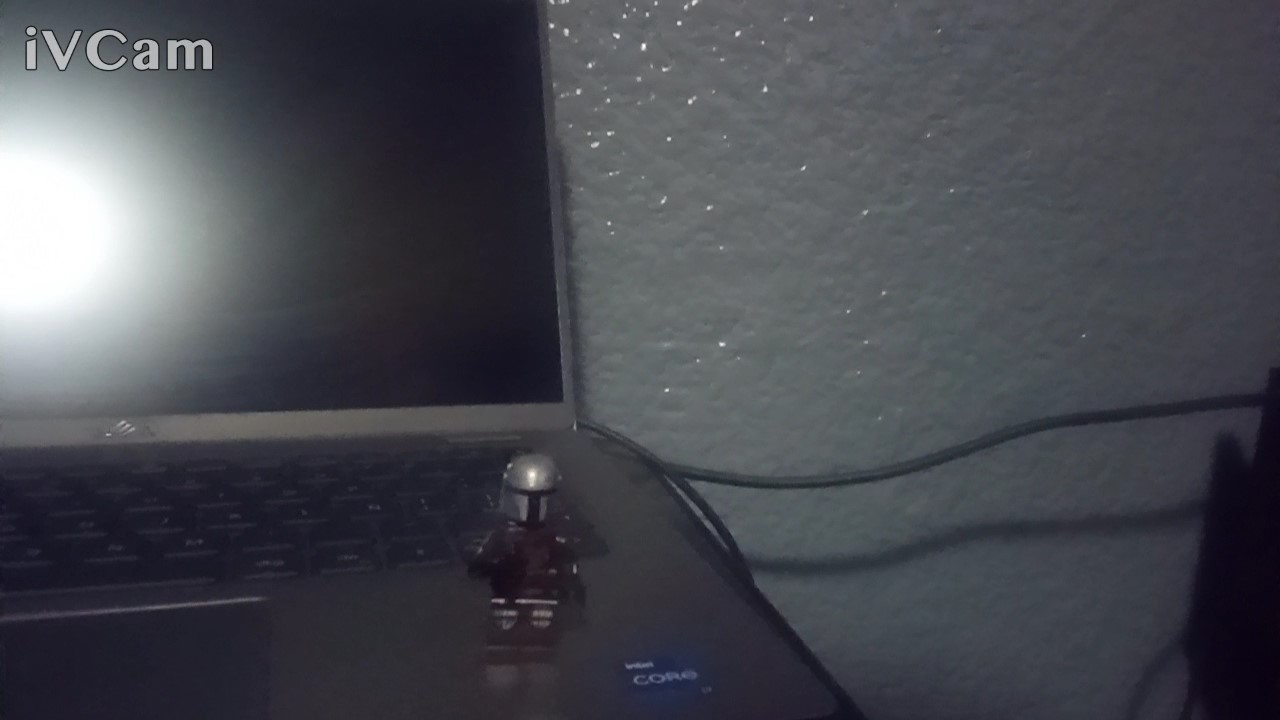mandalorian: (451, 436, 594, 662)
